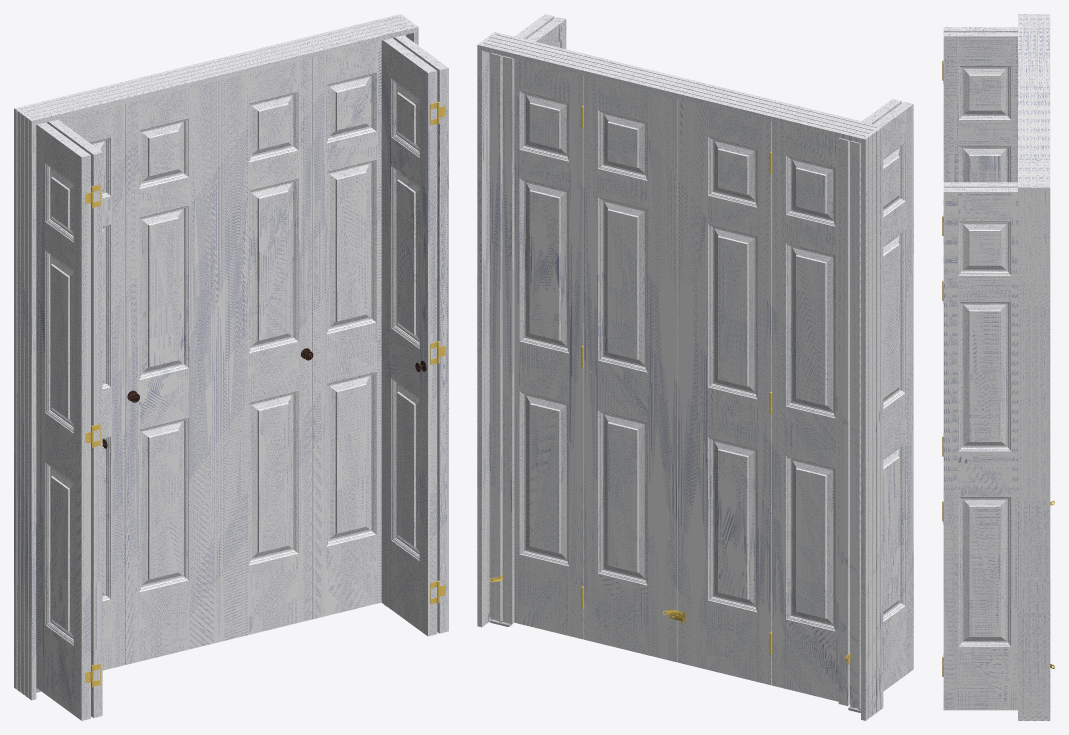
The picture shows the model from 3 angles, left to right: view 1: azimuth 30°, elevation 25°; view 2: azimuth 150°, elevation 25°; view 3: azimuth 270°, elevation 25°; orthographic projection. The views are drawn at different scales.
Parts seen in each view (by area): view 1: Stile_-_Bi-fold_1.375in_x_2in_x_80in__hinge_side_ (×8), Panel_-_Modern_7.5in_W_x_23.25in_H (×14), Stile_-_Bi-fold_1.375in_x_4.375in_x_80in__pivot_side_ (×5), Rail_-_Bottom_1.375in_x_7.5in_x_9.75in (×6), Door_Jamb_-_4.5in_x_82.25_in__80in_Bifold_Door_, Molding_-_Classical_Roman_Profile_0.5in_-_23.25in_V (×12), Rail_-_Lock_1.375in_x_7.5in_x_6.875in (×5), Door_Jamb_-_4.5in_x_56.5_in__56in_Door_, Panel_-_Modern_7.5in_W_x_8.5in_H (×5), Rail_-_Top_1.375in_x_7.5in_x_4.5in (×6), Rail_-_Cross_1.375in_x_7.5in_x_3.875in (×5); view 2: Stile_-_Bi-fold_1.375in_x_4.375in_x_80in__pivot_side_ (×8), Panel_-_Modern_7.5in_W_x_23.25in_H (×18), Stile_-_Bi-fold_1.375in_x_2in_x_80in__hinge_side_ (×5), Door_Jamb_-_4.5in_x_82.25_in__80in_Bifold_Door_ (×2), Rail_-_Bottom_1.375in_x_7.5in_x_9.75in (×5), Rail_-_Lock_1.375in_x_7.5in_x_6.875in (×5), Molding_-_Classical_Roman_Profile_0.5in_-_23.25in_V (×10), Panel_-_Modern_7.5in_W_x_8.5in_H (×5), Door_Jamb_-_4.5in_x_56.5_in__56in_Door_, Rail_-_Top_1.375in_x_7.5in_x_4.5in (×5), Rail_-_Cross_1.375in_x_7.5in_x_3.875in (×4); view 3: Door_Jamb_-_4.5in_x_82.25_in__80in_Bifold_Door_, Panel_-_Modern_7.5in_W_x_23.25in_H (×6), Stile_-_Bi-fold_1.375in_x_2in_x_80in__hinge_side_ (×2), Door_Jamb_-_4.5in_x_56.5_in__56in_Door_, Panel_-_Modern_7.5in_W_x_8.5in_H (×4), Stile_-_Bi-fold_1.375in_x_4.375in_x_80in__pivot_side_ (×2), Rail_-_Top_1.375in_x_7.5in_x_4.5in (×4), Rail_-_Bottom_1.375in_x_7.5in_x_9.75in, Rail_-_Cross_1.375in_x_7.5in_x_3.875in (×2), Rail_-_Lock_1.375in_x_7.5in_x_6.875in, Molding_-_Classical_Roman_Profile_0.5in_-_23.25in_V (×4), Molding_-_Classical_Roman_Profile_0.5in_-_7.5in_H (×4) (+1 smaller).
Boxes of the visible parts, <box> form: Stile_-_Bi-fold_1.375in_x_2in_x_80in__hinge_side_ (×8): <box>74,54,448,720</box>; Panel_-_Modern_7.5in_W_x_23.25in_H (×14): <box>51,162,419,637</box>; Stile_-_Bi-fold_1.375in_x_4.375in_x_80in__pivot_side_ (×5): <box>36,34,406,693</box>; Rail_-_Bottom_1.375in_x_7.5in_x_9.75in (×6): <box>45,535,420,714</box>; Door_Jamb_-_4.5in_x_82.25_in__80in_Bifold_Door_: <box>14,107,36,700</box>; Molding_-_Classical_Roman_Profile_0.5in_-_23.25in_V (×12): <box>45,159,396,624</box>; Rail_-_Lock_1.375in_x_7.5in_x_6.875in (×5): <box>45,323,420,482</box>; Door_Jamb_-_4.5in_x_56.5_in__56in_Door_: <box>18,15,415,124</box>; Panel_-_Modern_7.5in_W_x_8.5in_H (×5): <box>51,77,419,234</box>; Rail_-_Top_1.375in_x_7.5in_x_4.5in (×6): <box>45,42,428,182</box>; Rail_-_Cross_1.375in_x_7.5in_x_3.875in (×5): <box>45,132,420,270</box>; Stile_-_Bi-fold_1.375in_x_4.375in_x_80in__pivot_side_ (×8): <box>489,53,860,708</box>; Panel_-_Modern_7.5in_W_x_23.25in_H (×18): <box>524,181,899,626</box>; Stile_-_Bi-fold_1.375in_x_2in_x_80in__hinge_side_ (×5): <box>569,72,913,688</box>; Door_Jamb_-_4.5in_x_82.25_in__80in_Bifold_Door_ (×2): <box>477,32,883,720</box>; Rail_-_Bottom_1.375in_x_7.5in_x_9.75in (×5): <box>519,555,905,700</box>; Rail_-_Lock_1.375in_x_7.5in_x_6.875in (×5): <box>519,342,905,467</box>; Molding_-_Classical_Roman_Profile_0.5in_-_23.25in_V (×10): <box>519,178,905,619</box>; Panel_-_Modern_7.5in_W_x_8.5in_H (×5): <box>526,95,899,219</box>; Door_Jamb_-_4.5in_x_56.5_in__56in_Door_: <box>480,32,879,143</box>; Rail_-_Top_1.375in_x_7.5in_x_4.5in (×5): <box>519,60,905,167</box>; Rail_-_Cross_1.375in_x_7.5in_x_3.875in (×4): <box>519,150,835,254</box>; Door_Jamb_-_4.5in_x_82.25_in__80in_Bifold_Door_: <box>1018,186,1050,720</box>; Panel_-_Modern_7.5in_W_x_23.25in_H (×6): <box>961,148,1007,642</box>; Stile_-_Bi-fold_1.375in_x_2in_x_80in__hinge_side_ (×2): <box>943,32,957,710</box>; Door_Jamb_-_4.5in_x_56.5_in__56in_Door_: <box>1018,15,1050,186</box>; Panel_-_Modern_7.5in_W_x_8.5in_H (×4): <box>961,67,1007,271</box>; Stile_-_Bi-fold_1.375in_x_4.375in_x_80in__pivot_side_ (×2): <box>1011,32,1017,710</box>; Rail_-_Top_1.375in_x_7.5in_x_4.5in (×4): <box>958,27,1011,220</box>; Rail_-_Bottom_1.375in_x_7.5in_x_9.75in: <box>958,647,1011,710</box>; Rail_-_Cross_1.375in_x_7.5in_x_3.875in (×2): <box>958,120,1011,301</box>; Rail_-_Lock_1.375in_x_7.5in_x_6.875in: <box>958,452,1011,496</box>; Molding_-_Classical_Roman_Profile_0.5in_-_23.25in_V (×4): <box>958,301,1011,646</box>; Molding_-_Classical_Roman_Profile_0.5in_-_7.5in_H (×4): <box>958,116,1011,647</box>.
Size of the model in its own units: 57.5 by 15.69 by 82.25.
